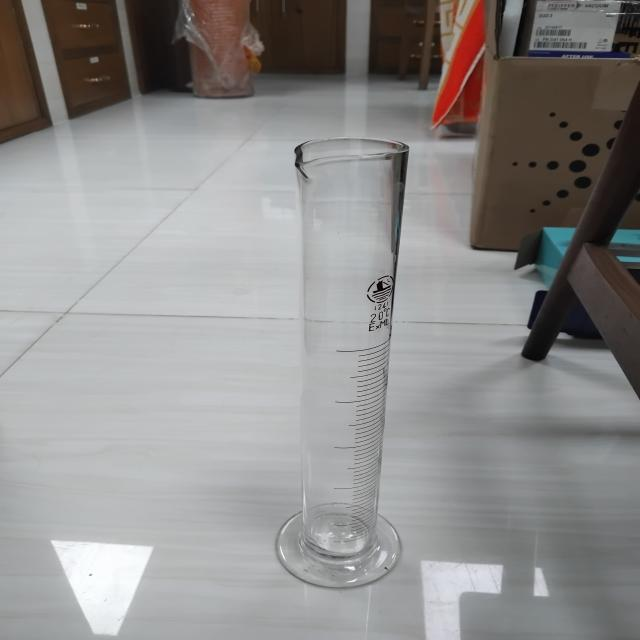Measuring_Cylinder: (217, 82, 447, 608)
